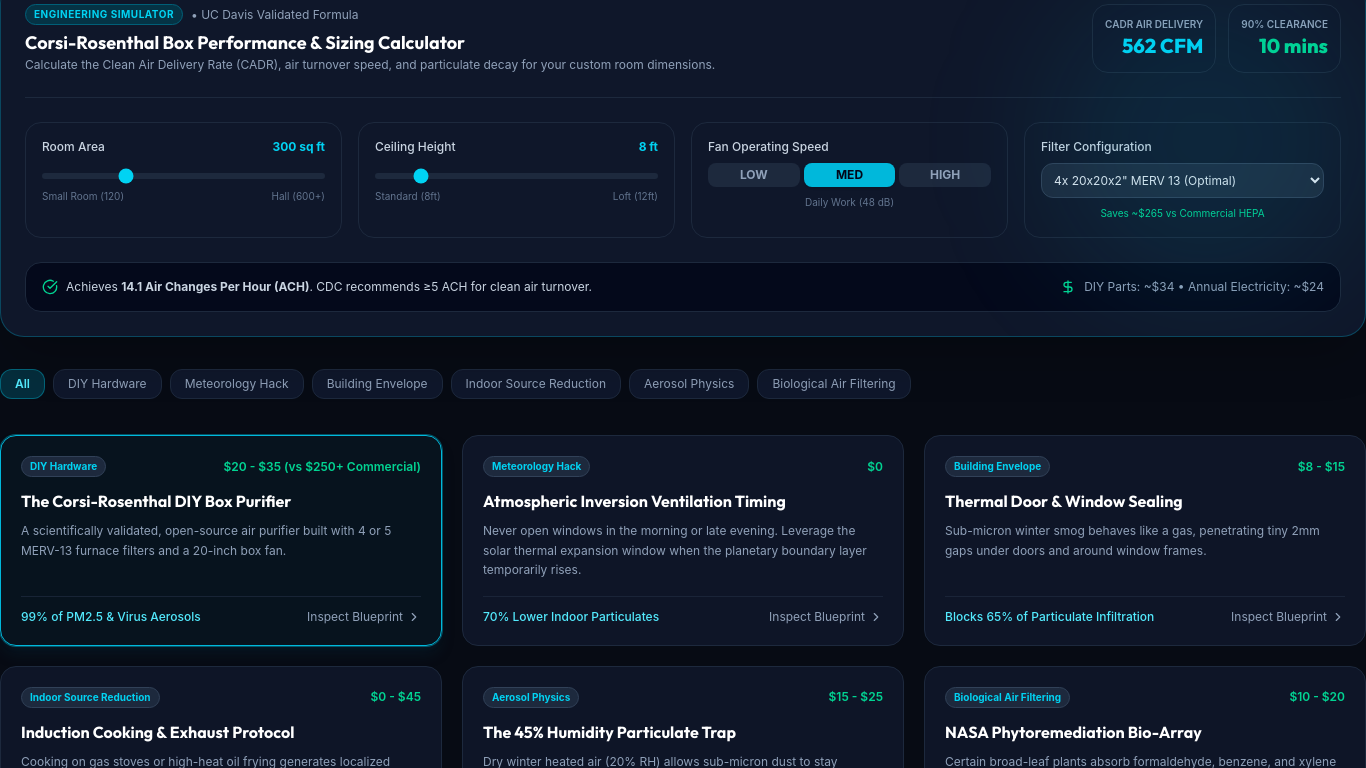
Test: UI Components & Accessibility Test Suite › IAQHacksLab Component › filters hacks by category
The image size is (1366, 768).
(page scrolled)
Click the tab "DIY Hardware" at [107, 384], box [53, 369, 162, 399]
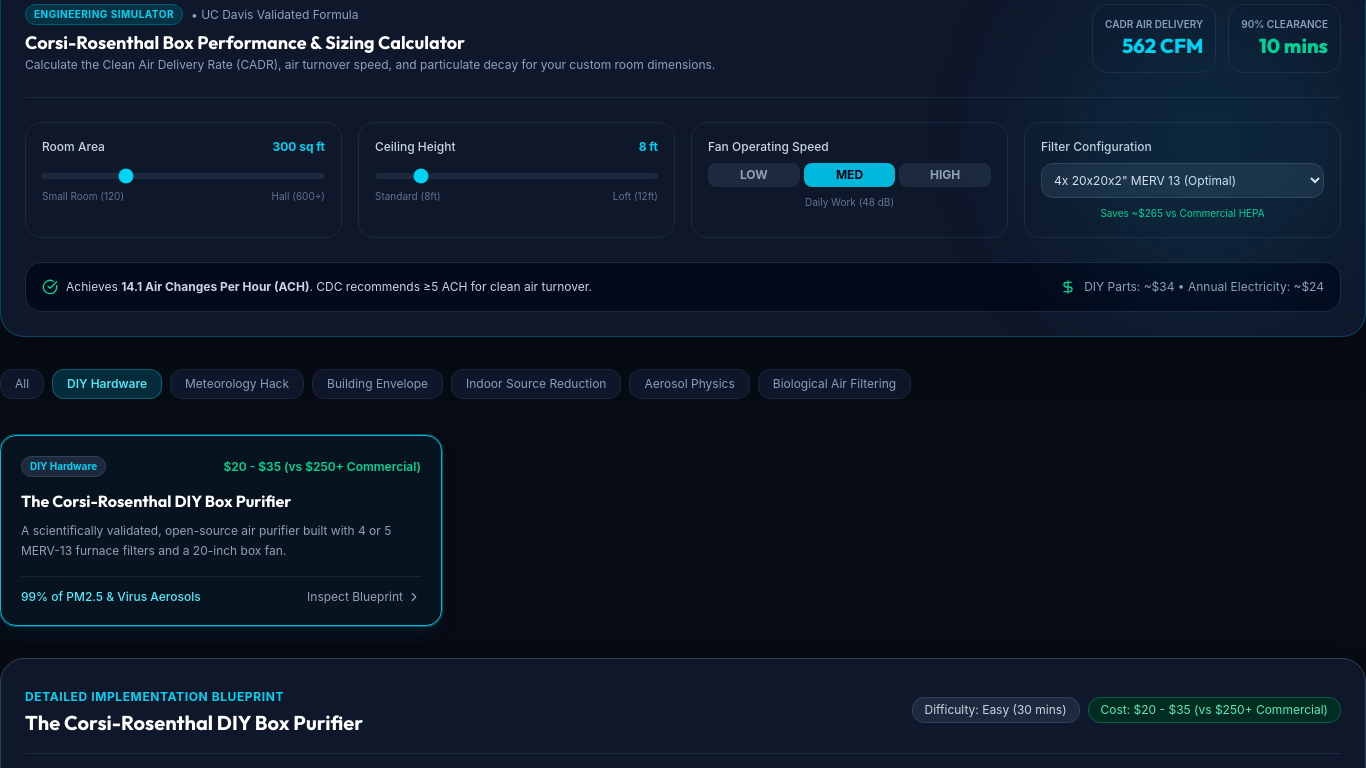
Check: the 1st heading "The Corsi-Rosenthal DIY Box Purifier" is shown, box [21, 491, 292, 511]
Check: the heading "NASA Phytoremediation Bio-Array" is gone
